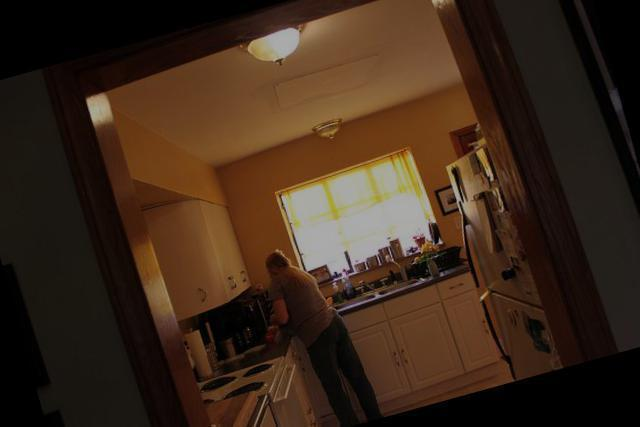Lavaplatos: (327, 262, 418, 313)
